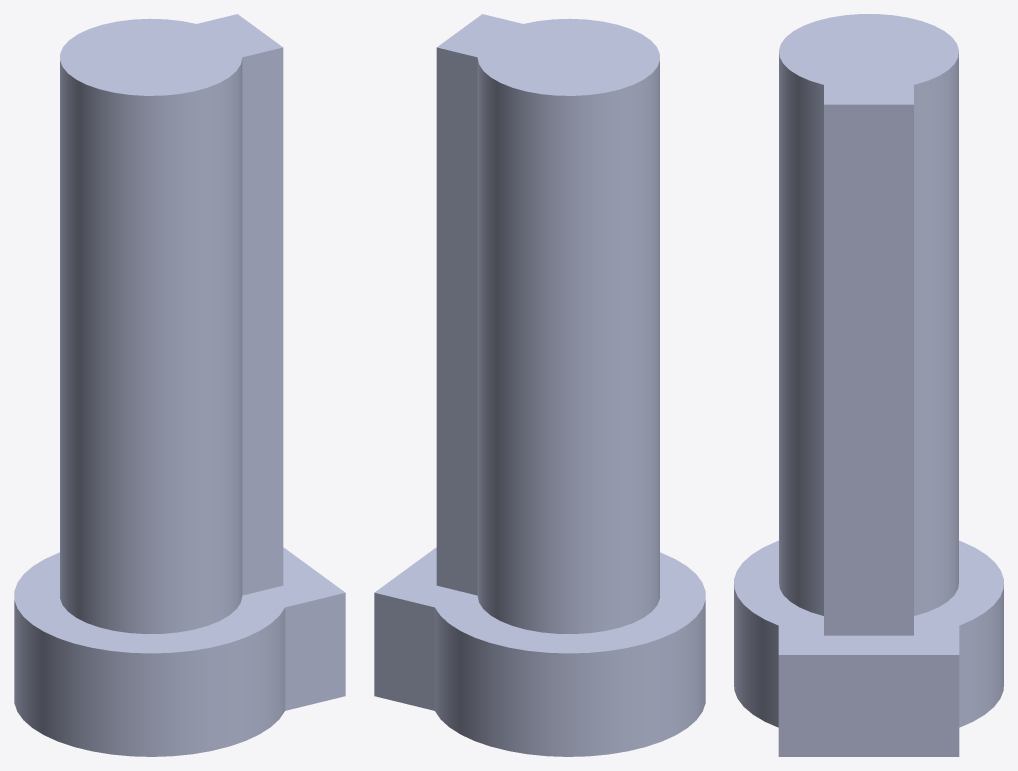
The model's file is csl.obj.
3 renders of one model, left to right at view 1: azimuth 30°, elevation 25°; view 2: azimuth 150°, elevation 25°; view 3: azimuth 270°, elevation 25°, orthographic.
Parts seen in each view (by area): view 1: Root|circlesquare_VISUALIZE_(Default)|Merged_Parts|Part; view 2: Root|circlesquare_VISUALIZE_(Default)|Merged_Parts|Part; view 3: Root|circlesquare_VISUALIZE_(Default)|Merged_Parts|Part.
Boxes of the visible parts, <box> form: Root|circlesquare_VISUALIZE_(Default)|Merged_Parts|Part: <box>14,14,345,756</box>; Root|circlesquare_VISUALIZE_(Default)|Merged_Parts|Part: <box>374,14,705,756</box>; Root|circlesquare_VISUALIZE_(Default)|Merged_Parts|Part: <box>734,14,1003,756</box>.
Bounding box in the file's own units: 0.0676 × 0.155 × 0.0599.
